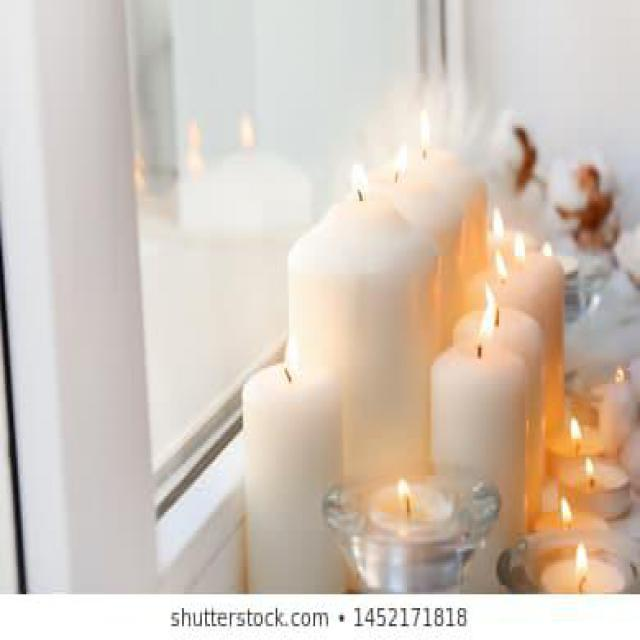Fire: (482, 284, 499, 346), (574, 538, 589, 586), (348, 158, 366, 194), (397, 476, 414, 514), (493, 249, 508, 281), (394, 143, 407, 179), (419, 109, 429, 154), (560, 498, 574, 530), (570, 415, 582, 447), (584, 452, 596, 484)
